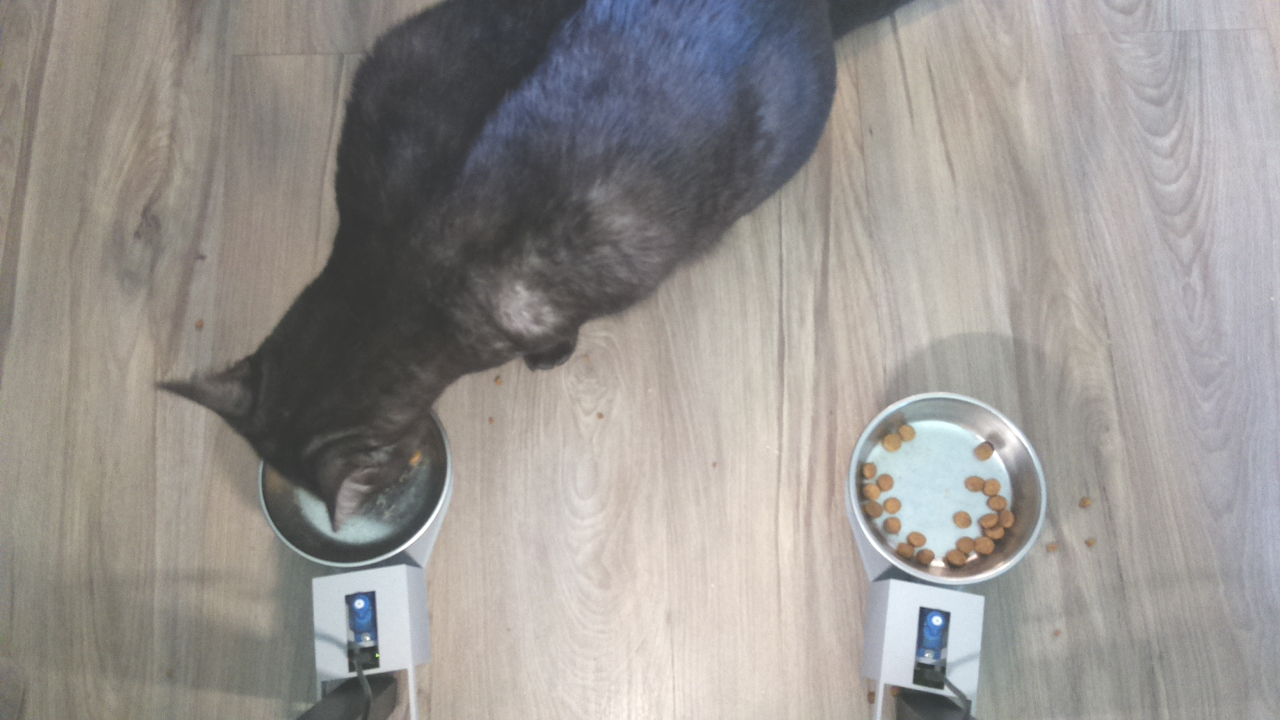open_bowl: (848, 389, 1050, 596)
saki_eating: (144, 306, 477, 569)
